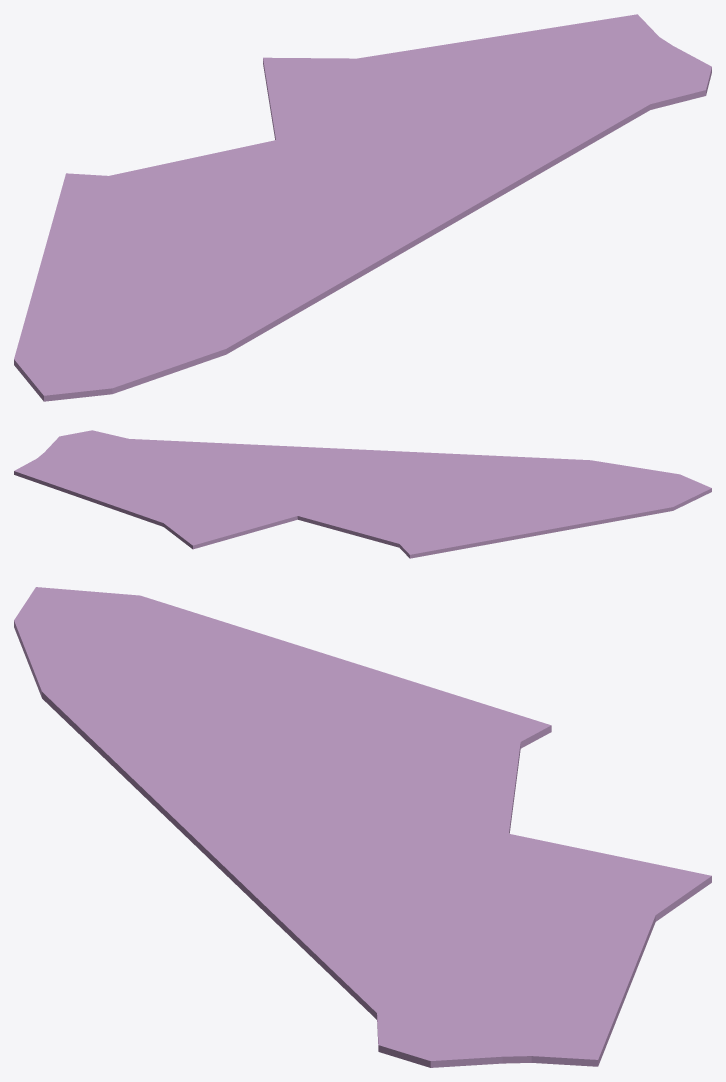
Rendered from boundary_extruded_3857_proj.gltf.
3 renders of one model, top to bottom at view 1: azimuth 30°, elevation 25°; view 2: azimuth 150°, elevation 25°; view 3: azimuth 270°, elevation 25°, orthographic. The views are drawn at different scales.
Visible parts, largest first — view 1: MIT_Boundary; view 2: MIT_Boundary; view 3: MIT_Boundary.
Boxes of the visible parts, <box> form: MIT_Boundary: <box>14,14,711,401</box>; MIT_Boundary: <box>14,430,711,558</box>; MIT_Boundary: <box>14,587,711,1067</box>.
Size of the model in its own units: 3719 by 25 by 2314.
